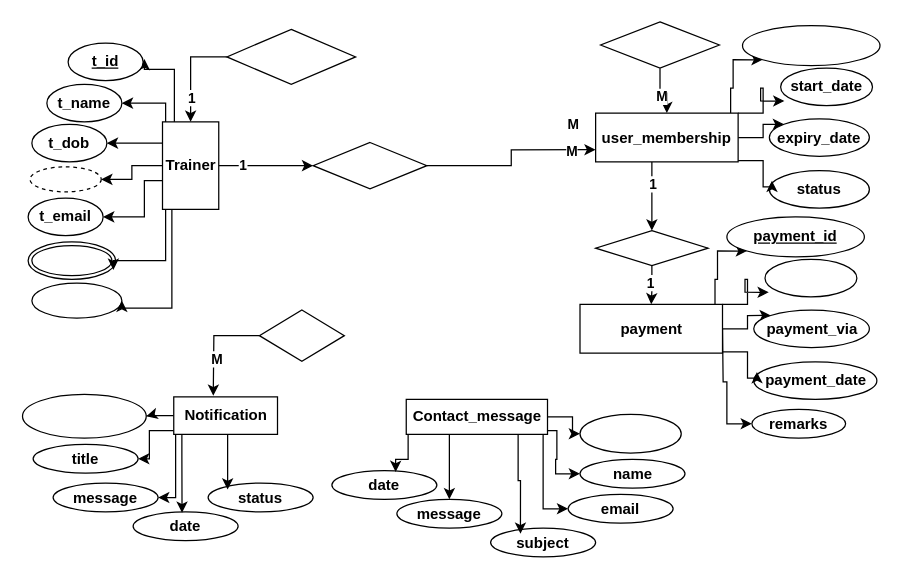
Image size: 901x579. Some labels were removed from this diagram. The centre of each missing label's shape, as x and y in pixels:
"amount" goes at point (810, 277).
"authenticates" goes at point (291, 56).
"contact_id" goes at point (630, 433).
"is chosen in" goes at point (659, 44).
"membership_id" goes at point (810, 45).
"notification_id" goes at point (83, 415).
"receives" goes at point (301, 335).
"requires" goes at point (651, 247).
"supervises" goes at point (369, 165).
"t_age" goes at point (65, 179).
"t_expertise" goes at point (76, 300).
"t_phone" goes at point (71, 260).
